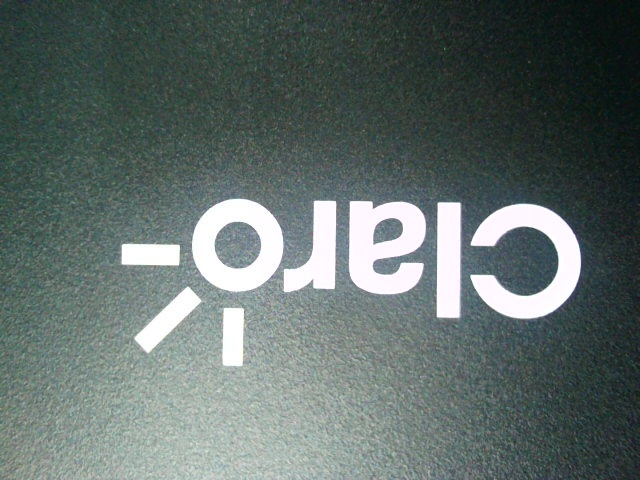BC_Claor: (110, 166, 587, 374)
